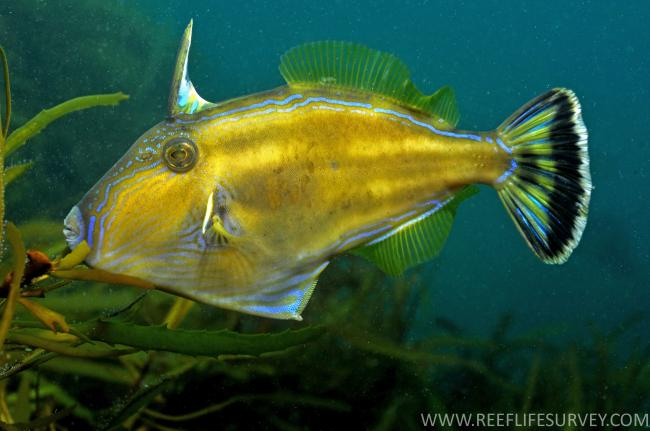fish: (64, 18, 592, 320)
